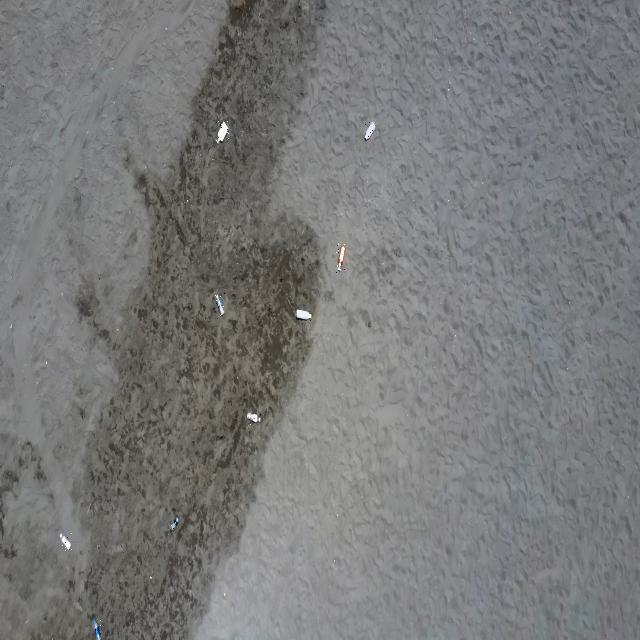plastic-bottle: (215, 121, 229, 144), (294, 307, 314, 322), (336, 244, 346, 273), (364, 121, 376, 142), (215, 293, 225, 318), (59, 533, 72, 552), (93, 616, 103, 640), (246, 411, 261, 425), (170, 514, 180, 534)
